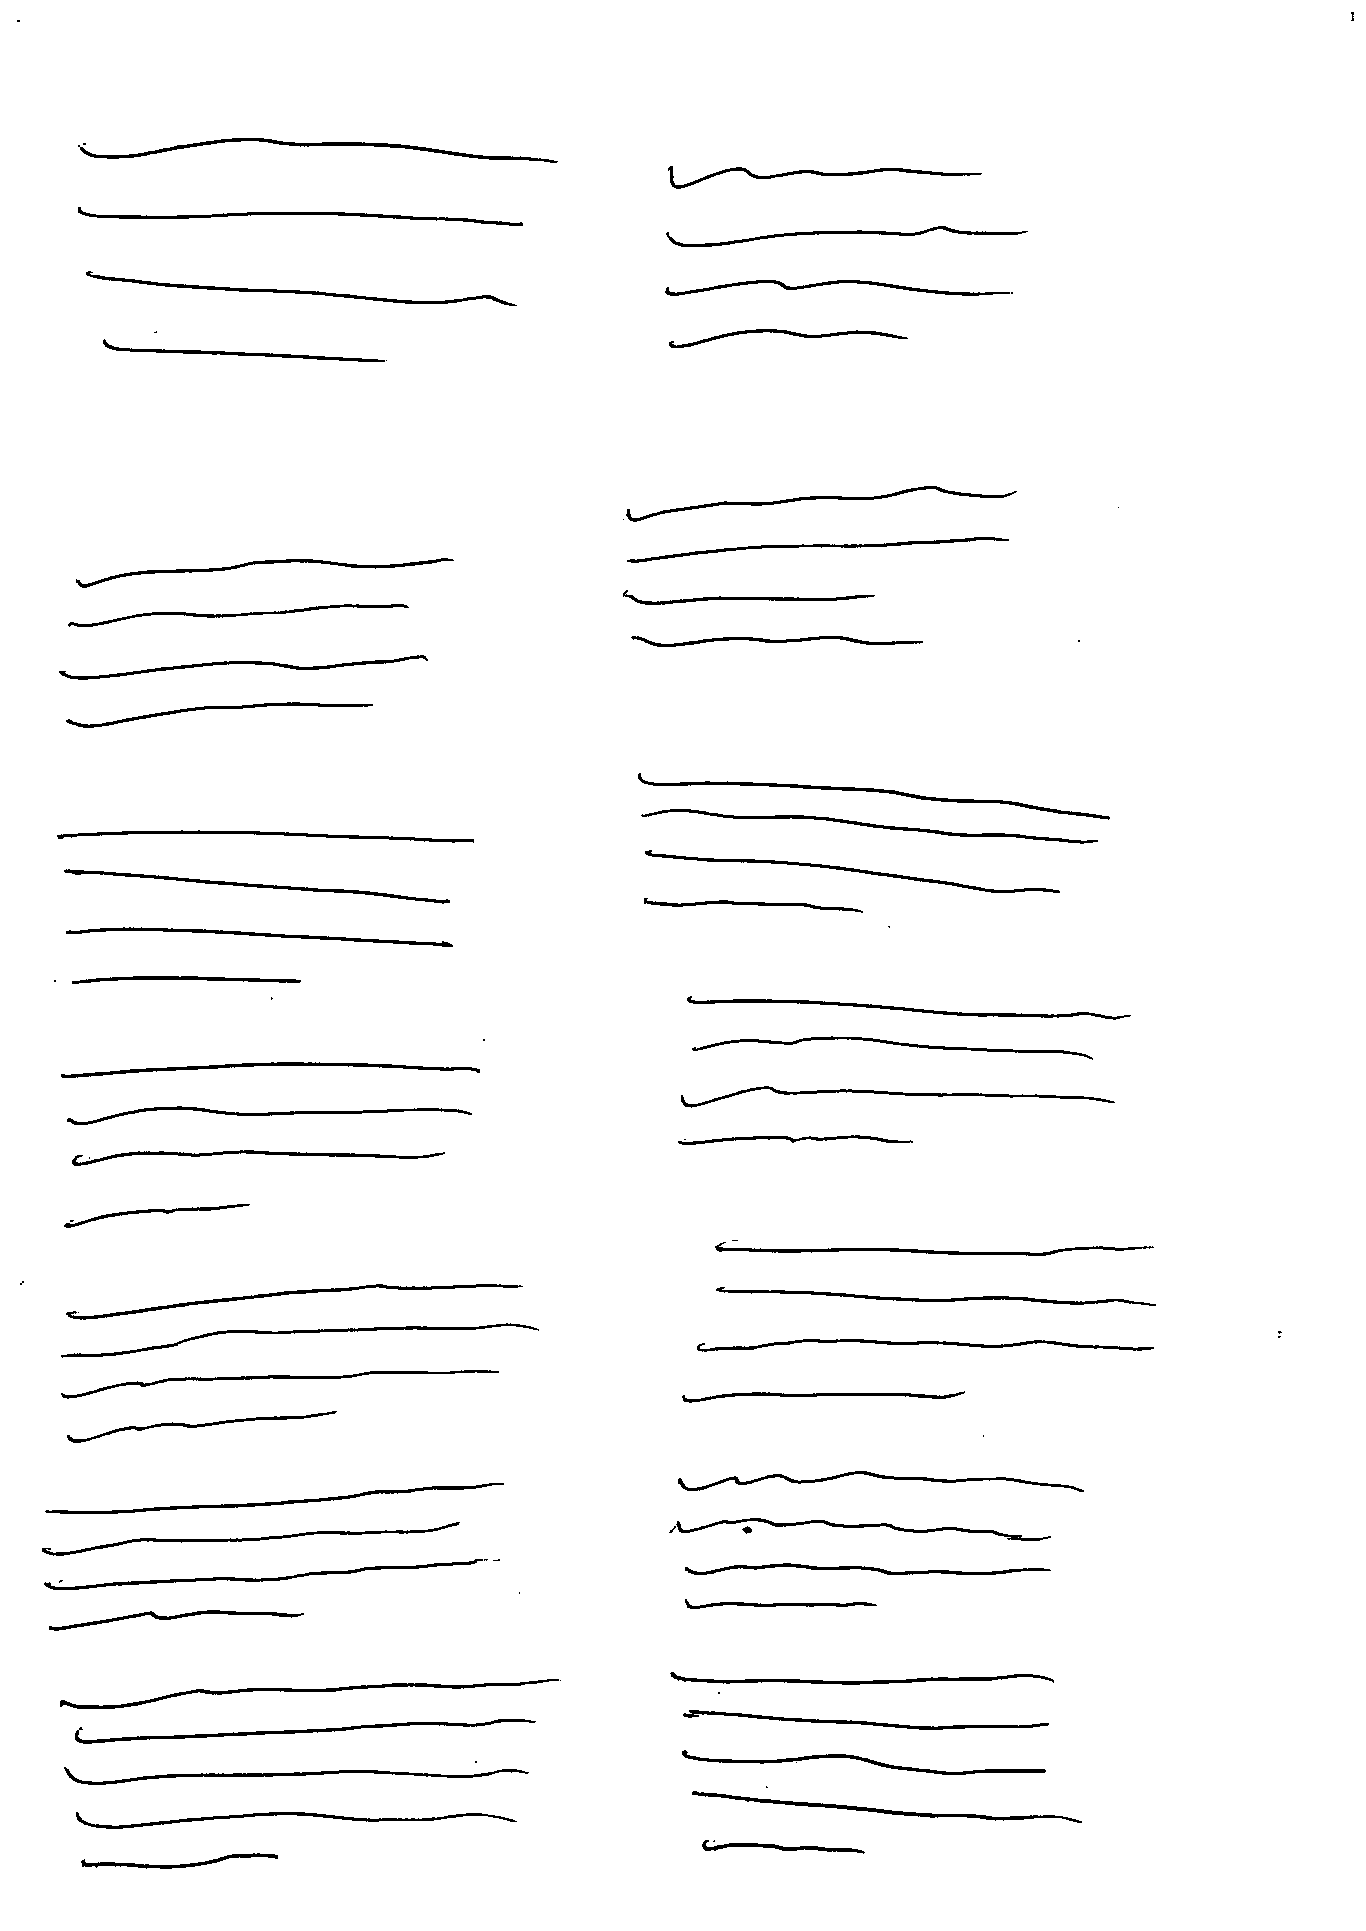Paragraph: (77, 135, 559, 368), (58, 1677, 569, 1870), (680, 1241, 1158, 1406), (58, 1280, 532, 1446), (670, 1669, 1081, 1853), (61, 1060, 486, 1230), (38, 1482, 503, 1635), (58, 554, 458, 730), (676, 995, 1129, 1150), (636, 767, 1112, 912), (55, 827, 480, 988), (624, 483, 1020, 649), (673, 1471, 1087, 1615)
